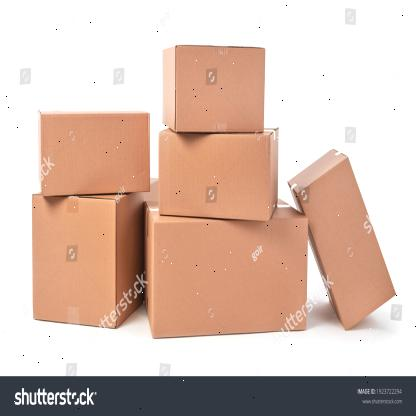box: (154, 219, 307, 339), (298, 157, 396, 332), (32, 193, 116, 328), (159, 132, 269, 220), (41, 112, 149, 197), (175, 45, 264, 134)
